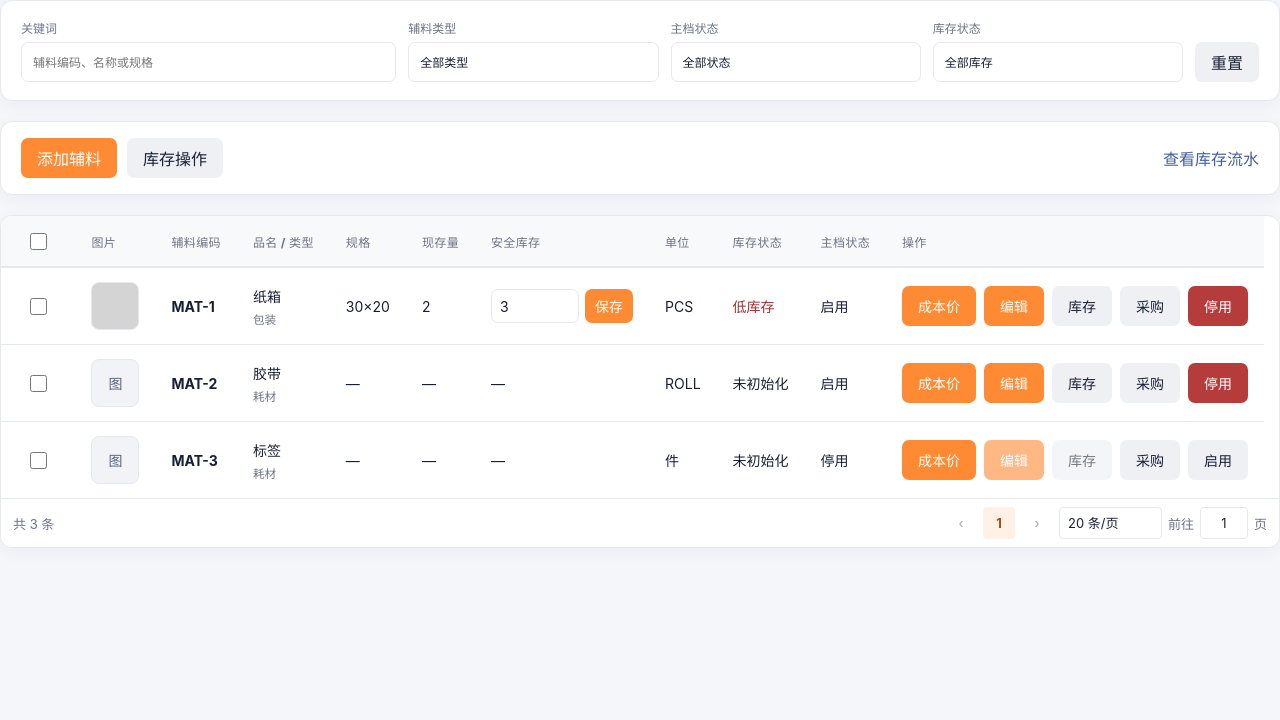
it: MaterialsView merged material management › requires selection and confirmation and preserves rows on deletion failure
Check: the text "删除" is not shown
Click the checkbox named "选择辅料 MAT-2" at (39, 383), box [30,374,47,392]
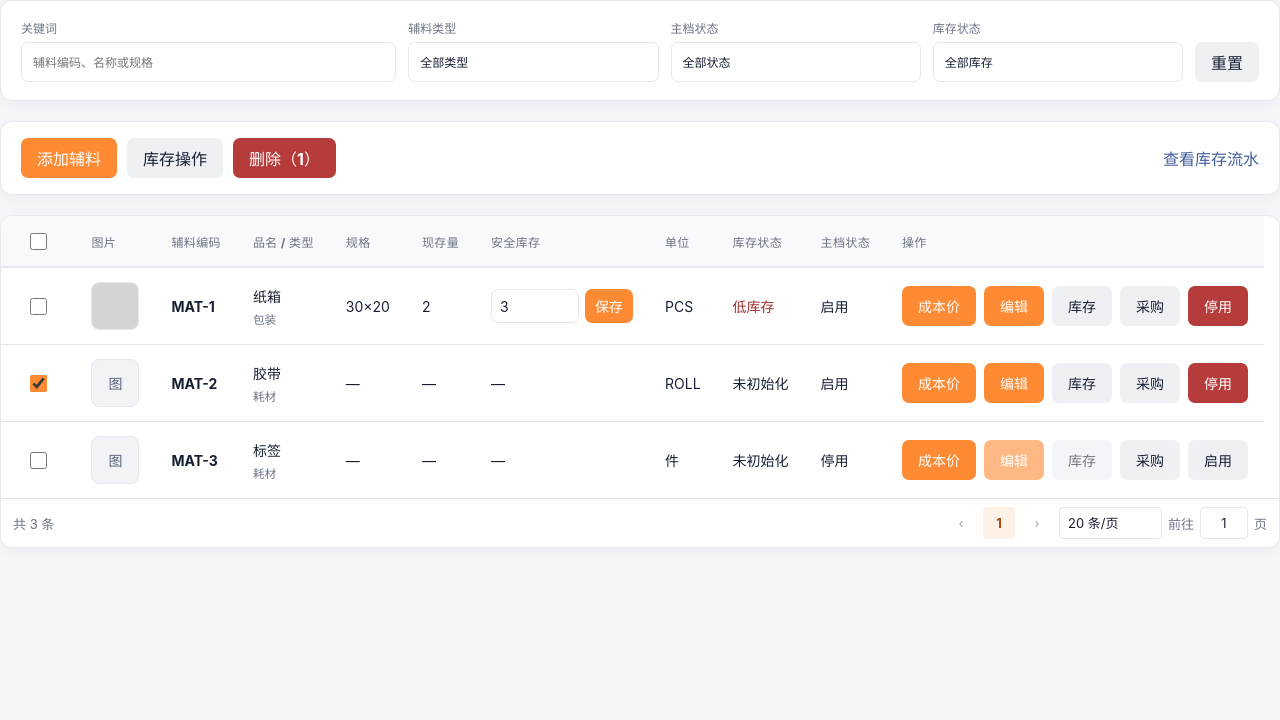
Click the button with class "danger-button" showing "删除（1）" at (284, 158), box [233,138,336,178]
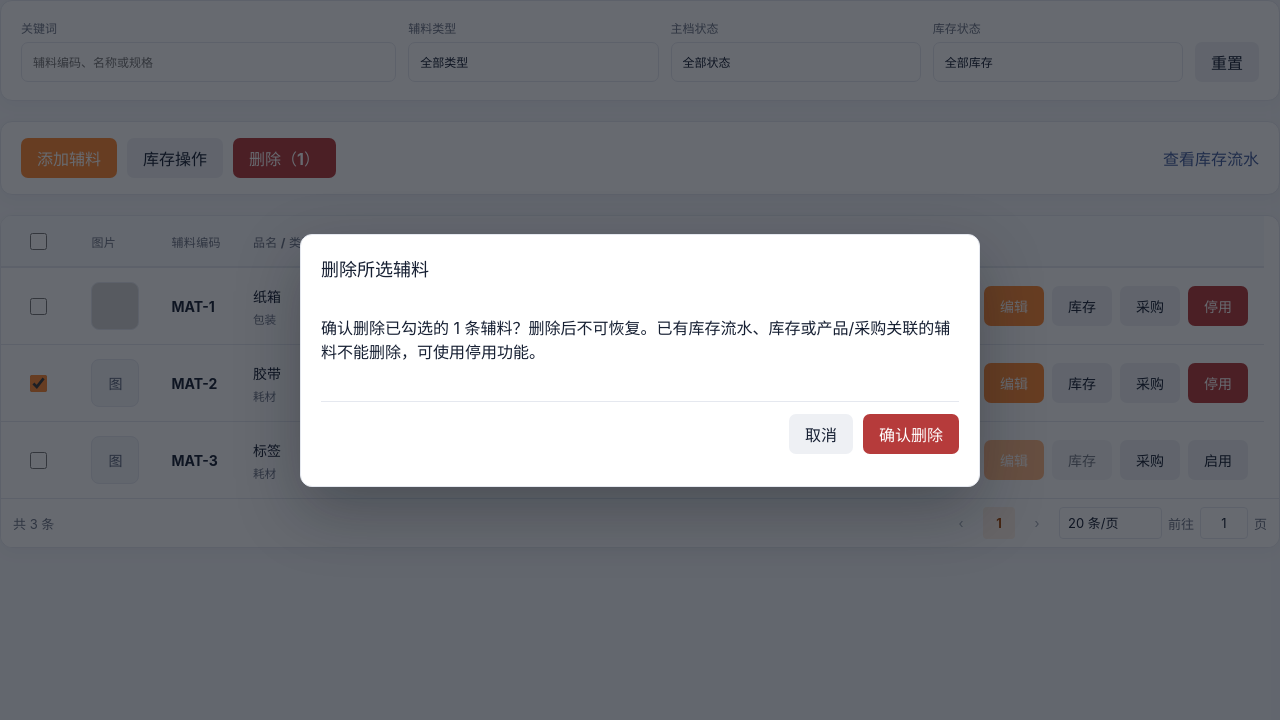
Click the button with class "danger-button" showing "确认删除" at (911, 434), box [863,414,959,454]
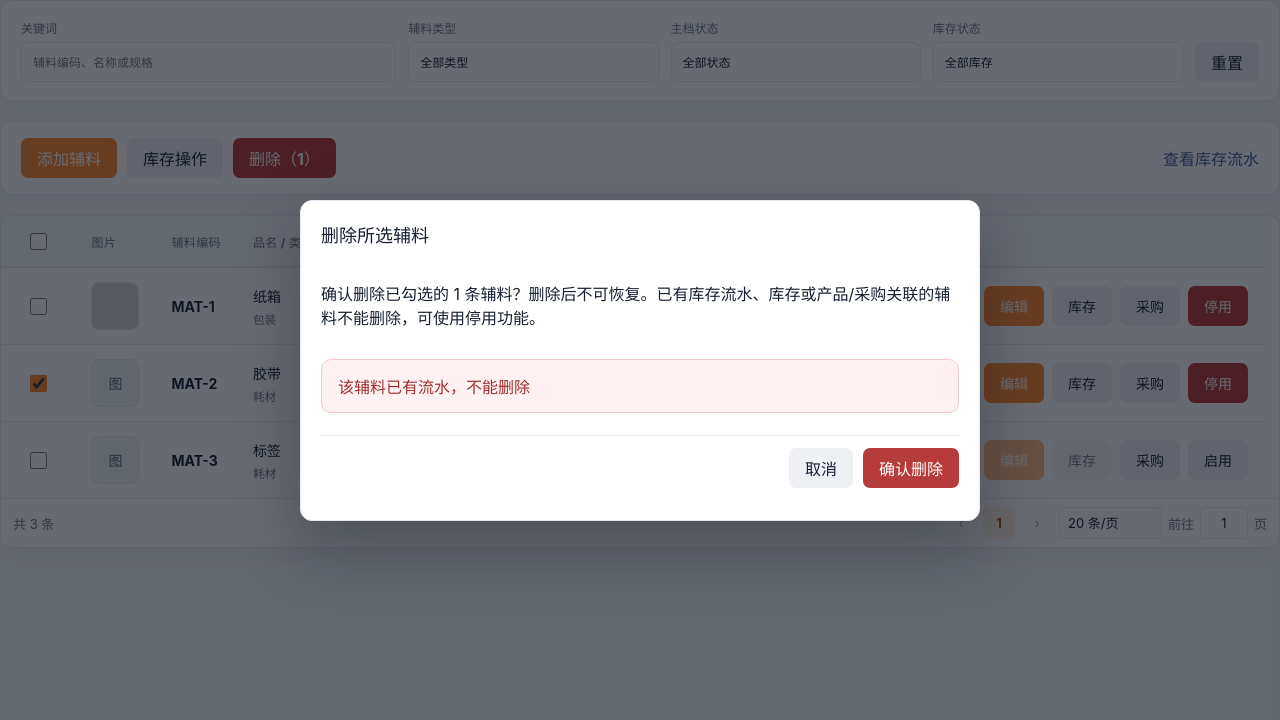
Check: the text "MAT-2" is shown, box [172,374,217,392]
Check: the message "该辅料已有流水，不能删除" is shown, box [321,358,959,412]
Click the button with class "danger-button" showing "确认删除" at (911, 468), box [863,448,959,488]
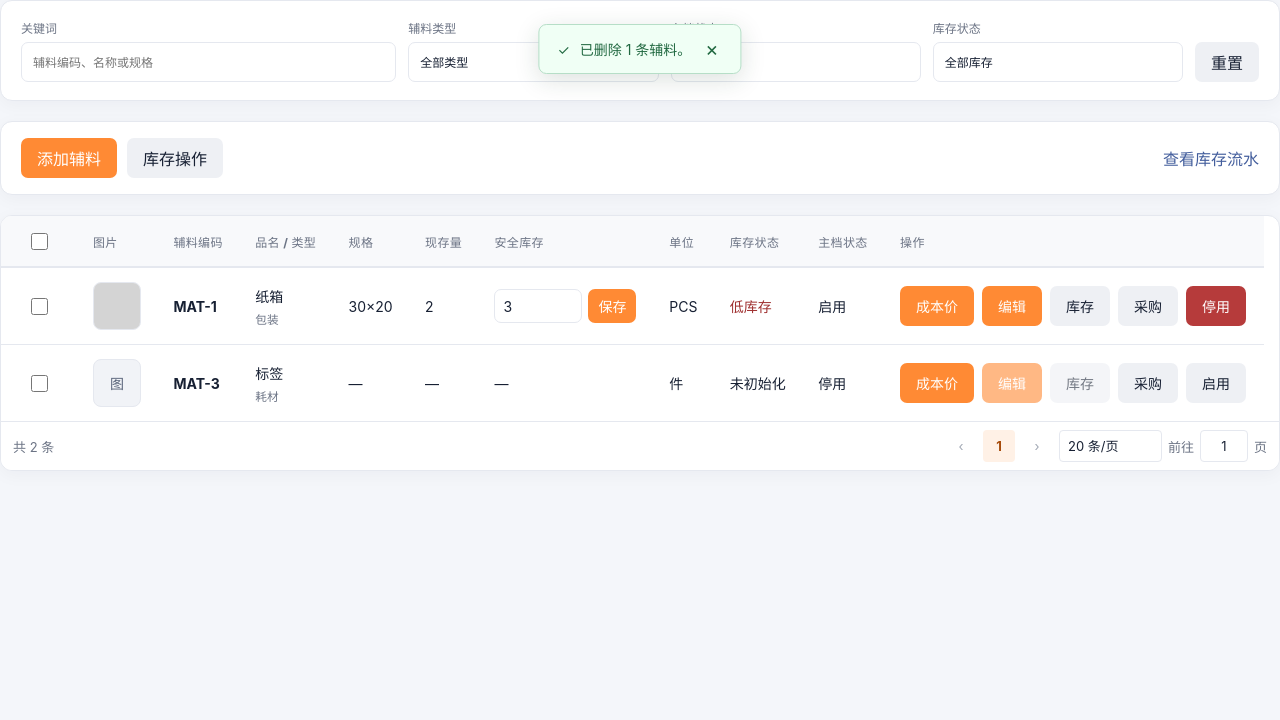
Check: the text "MAT-2" is gone
Check: the text "删除" is gone
